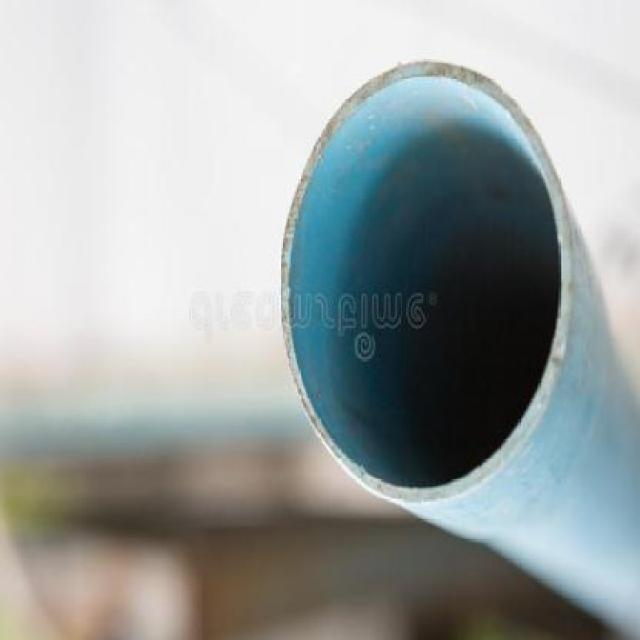pipe: (282, 59, 570, 502)
